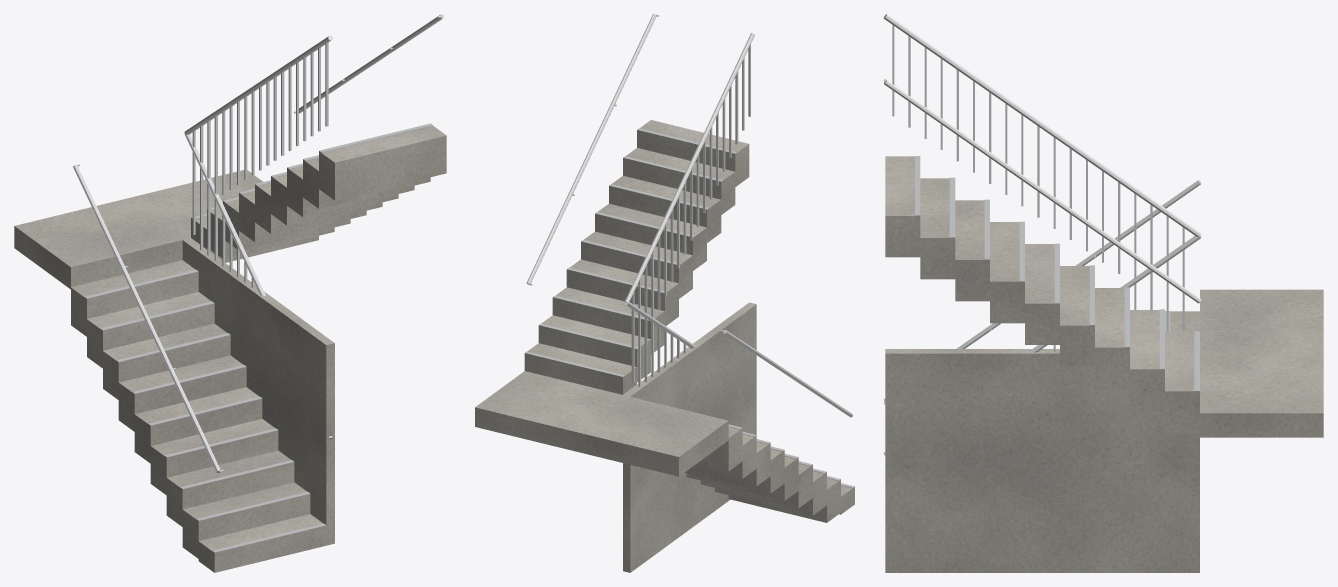
File: stair_podium.glb
3 renders of one model, left to right at view 1: azimuth 30°, elevation 25°; view 2: azimuth 150°, elevation 25°; view 3: azimuth 270°, elevation 25°, orthographic. The views are drawn at different scales.
Visible parts, largest first — view 1: stair_podium_concrete, stair_podium_steel, stair_podium_band; view 2: stair_podium_concrete, stair_podium_steel, stair_podium_band; view 3: stair_podium_concrete, stair_podium_steel, stair_podium_band.
Boxes of the visible parts, x1=… form: stair_podium_concrete: x1=14, y1=125, x2=446, y2=572; stair_podium_steel: x1=73, y1=14, x2=444, y2=472; stair_podium_band: x1=84, y1=123, x2=432, y2=552; stair_podium_concrete: x1=475, y1=120, x2=854, y2=572; stair_podium_steel: x1=526, y1=14, x2=852, y2=417; stair_podium_band: x1=525, y1=128, x2=854, y2=488; stair_podium_concrete: x1=885, y1=156, x2=1323, y2=572; stair_podium_steel: x1=883, y1=14, x2=1201, y2=455; stair_podium_band: x1=915, y1=156, x2=1199, y2=391.
Bounding box in the file's own units: 2.18 × 4.57 × 3.27.
Materials: 3 (1 with a texture image).
